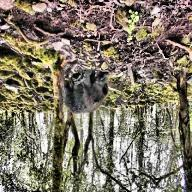boar: (46, 57, 112, 139)
